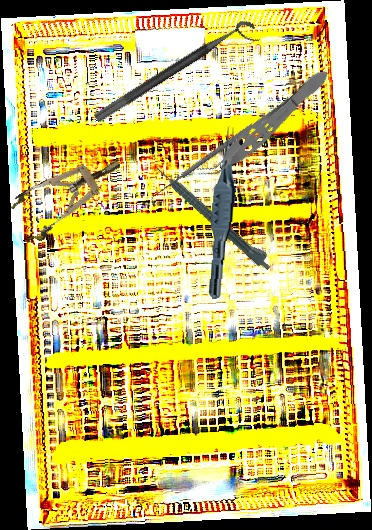Fixation Ring: (93, 16, 262, 136)
Handpiece: (153, 159, 277, 274)
Hook Surgical: (146, 121, 259, 207)
Speculum: (5, 142, 133, 247)
Tissue Forceps: (193, 62, 336, 190), (207, 125, 240, 300)
